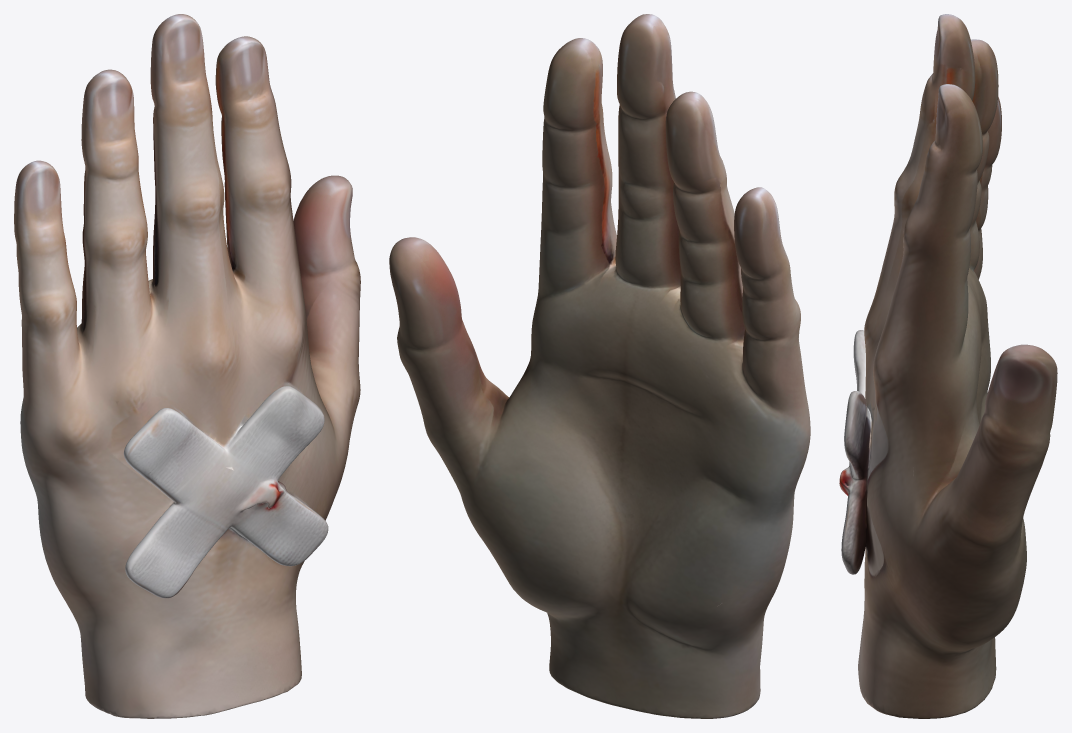
File: hand_bleed.glb
3 views of the same model, side by side, from view 1: azimuth 30°, elevation 25°; view 2: azimuth 150°, elevation 25°; view 3: azimuth 270°, elevation 25° (orthographic). The views are drawn at different scales.
Parts seen in each view (by area): view 1: mvadapter_node_923d35f8-5b51-491d-8b06-8df4bf081a08-e1_textu; view 2: mvadapter_node_923d35f8-5b51-491d-8b06-8df4bf081a08-e1_textu; view 3: mvadapter_node_923d35f8-5b51-491d-8b06-8df4bf081a08-e1_textu.
Part boxes in pixels (left/top/right/bottom): mvadapter_node_923d35f8-5b51-491d-8b06-8df4bf081a08-e1_textu: left=14, top=14, right=360, bottom=718; mvadapter_node_923d35f8-5b51-491d-8b06-8df4bf081a08-e1_textu: left=389, top=14, right=810, bottom=718; mvadapter_node_923d35f8-5b51-491d-8b06-8df4bf081a08-e1_textu: left=839, top=14, right=1057, bottom=718.
Bounding box in the file's own units: 1.08 × 1.88 × 0.5652.
1 material, 1 textured.
